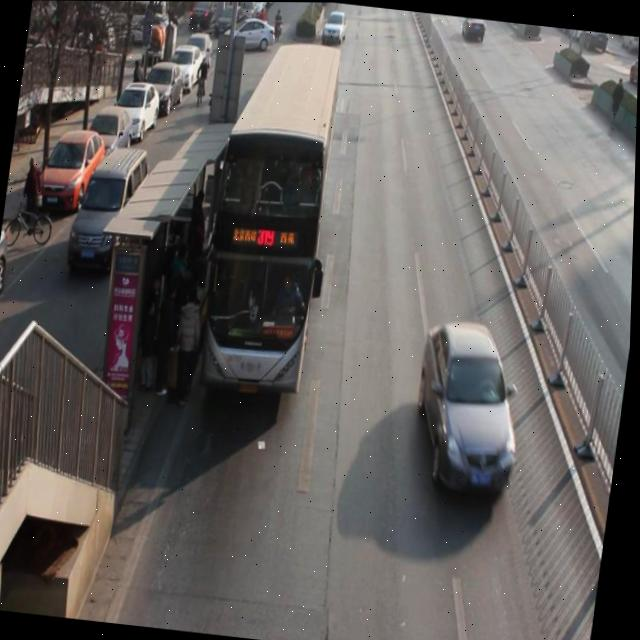car: (410, 322, 530, 502), (322, 9, 349, 45), (461, 16, 487, 43)
van: (196, 38, 346, 398)
